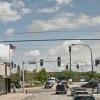Traffic light: (31, 52, 80, 73)
